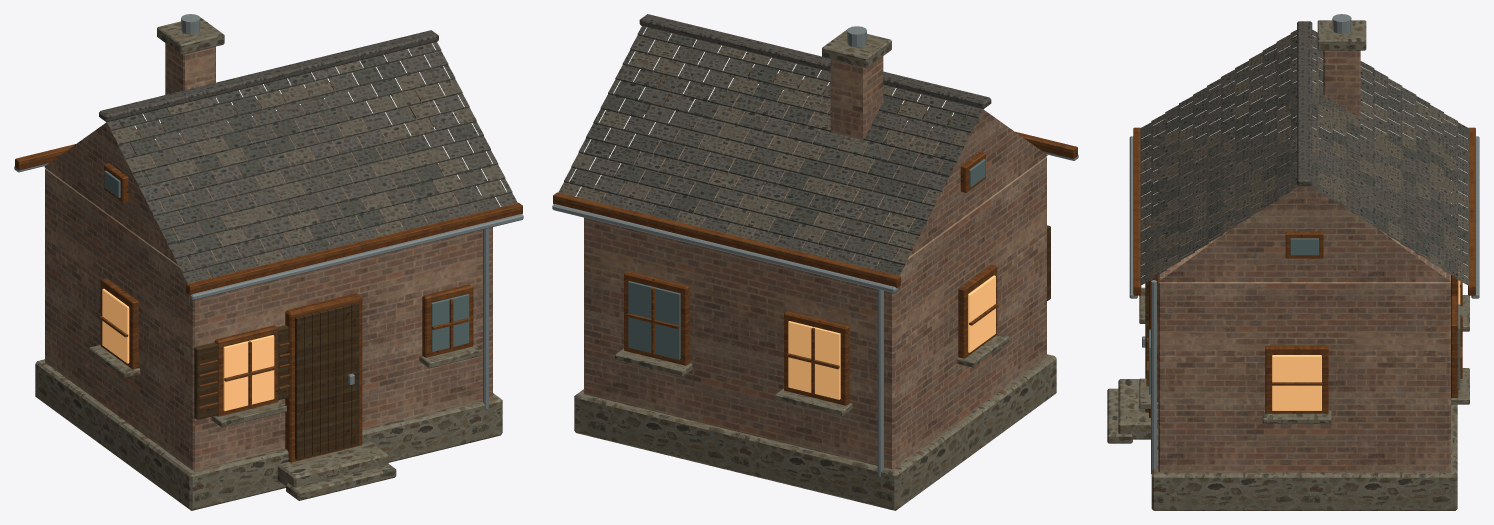
Rendered from cottage-2.glb.
3 views of the same model, side by side, from view 1: azimuth 30°, elevation 25°; view 2: azimuth 150°, elevation 25°; view 3: azimuth 270°, elevation 25° (orthographic). The views are drawn at different scales.
Visible parts, largest first — view 1: cottage-2; view 2: cottage-2; view 3: cottage-2.
Boxes of the visible parts, bbox=[...] form: cottage-2: bbox=[14, 14, 523, 510]; cottage-2: bbox=[552, 14, 1078, 510]; cottage-2: bbox=[1107, 14, 1479, 510].
Size of the model in its own units: 3.95 by 4.51 by 3.9.
11 materials, 8 textured.
